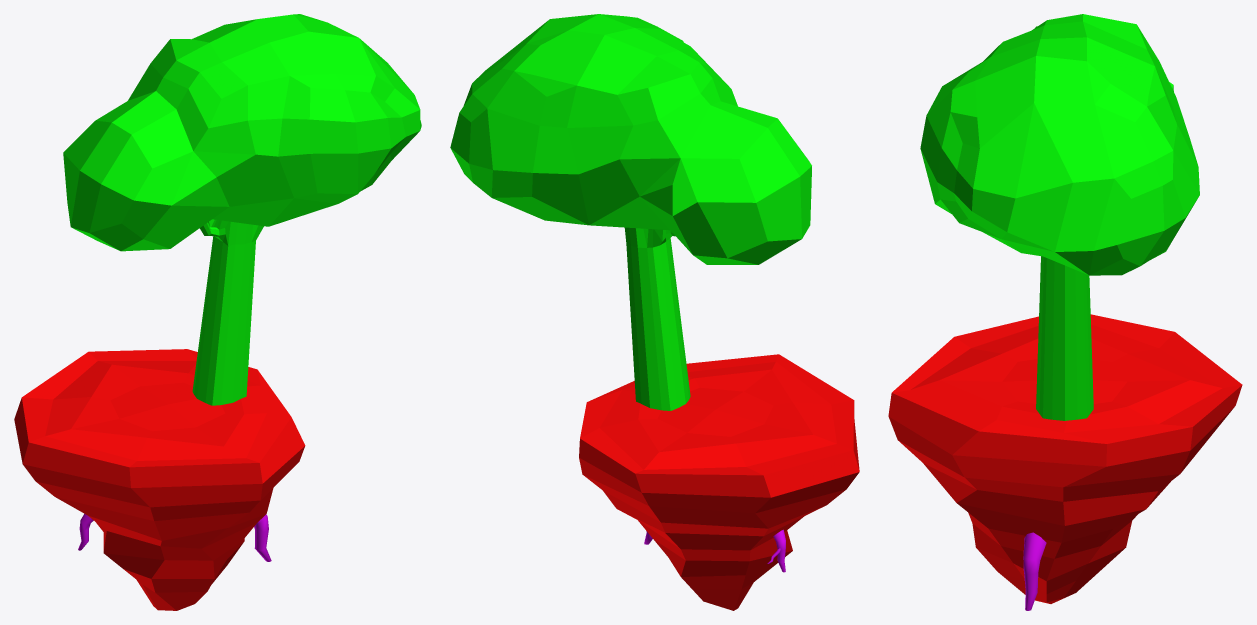
The model's file is TreeIsland1_low.fbx.
The picture shows the model from 3 angles, left to right: view 1: azimuth 30°, elevation 25°; view 2: azimuth 150°, elevation 25°; view 3: azimuth 270°, elevation 25°; orthographic projection. The views are drawn at different scales.
Visible parts, largest first — view 1: Tree_low, Island_low, Roots_low; view 2: Tree_low, Island_low; view 3: Tree_low, Island_low, Roots_low.
Boxes of the visible parts, <box> form: Tree_low: <box>63,14,421,405</box>; Island_low: <box>14,349,305,610</box>; Roots_low: <box>78,514,271,561</box>; Tree_low: <box>450,14,811,410</box>; Island_low: <box>579,354,859,610</box>; Tree_low: <box>920,14,1199,420</box>; Island_low: <box>888,314,1242,603</box>; Roots_low: <box>1023,532,1046,610</box>.
Bounding box in the file's own units: 93.12 × 128 × 66.67.
